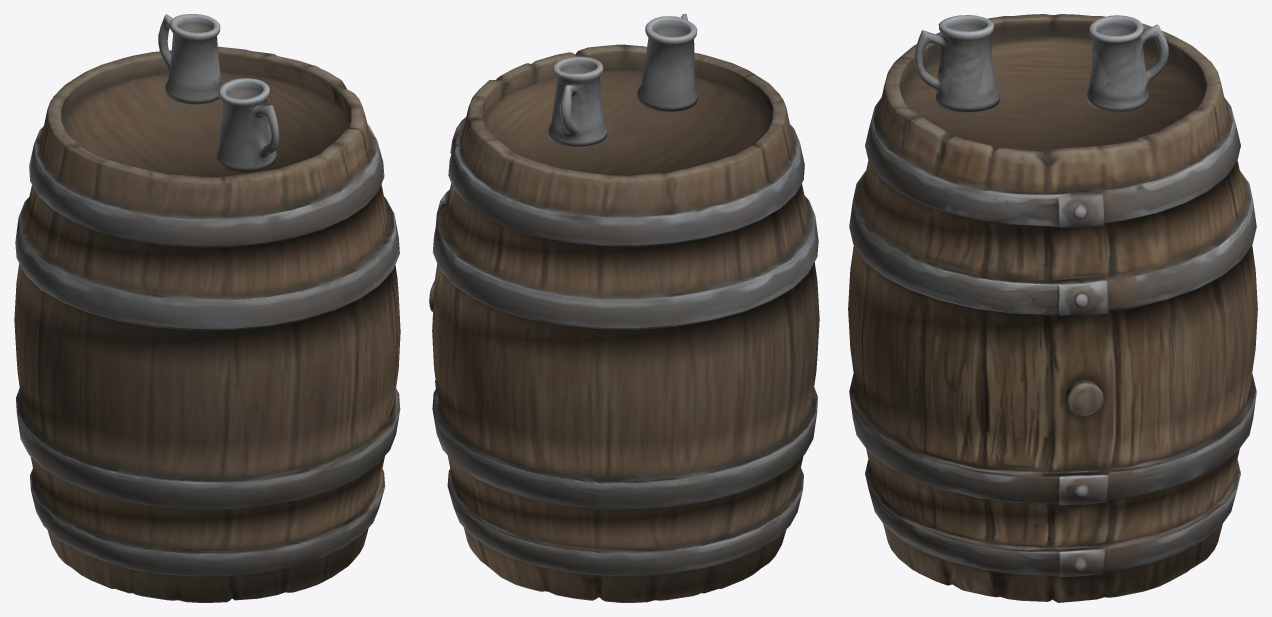
Rendered from SM_Env_SohoPubBarrelTable.fbx.
3 views of the same model, side by side, from view 1: azimuth 30°, elevation 25°; view 2: azimuth 150°, elevation 25°; view 3: azimuth 270°, elevation 25° (orthographic). The views are drawn at different scales.
Parts seen in each view (by area): view 1: SM_Env_SohoPubBarrelTable; view 2: SM_Env_SohoPubBarrelTable; view 3: SM_Env_SohoPubBarrelTable.
Part boxes in pixels (x1,y1,x2,y2): SM_Env_SohoPubBarrelTable: (14, 14, 400, 602); SM_Env_SohoPubBarrelTable: (429, 14, 819, 602); SM_Env_SohoPubBarrelTable: (848, 14, 1257, 602).
Size of the model in its own units: 22.14 by 21.53 by 30.
1 material, 1 textured.
